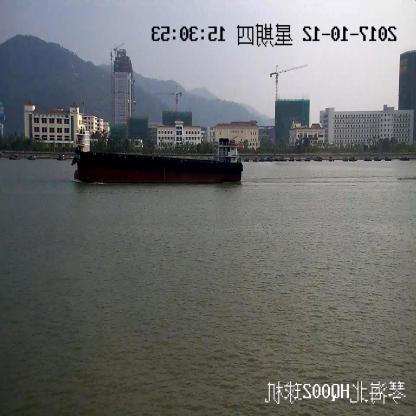Bulk Carrier: (72, 121, 242, 184)
